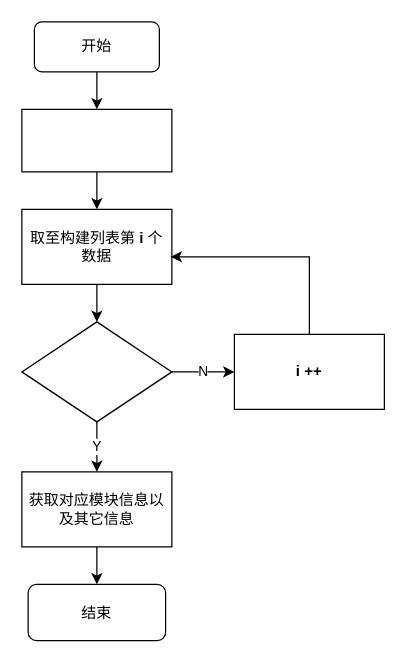
Image size: 406x663. Some labels were removed from this diagram. Each missing label, with the box of its shape:
匹配成功 Jobname?: (21, 321, 172, 422)
获取当前job名称，遍历参数列表， i = 0: (21, 108, 172, 172)
